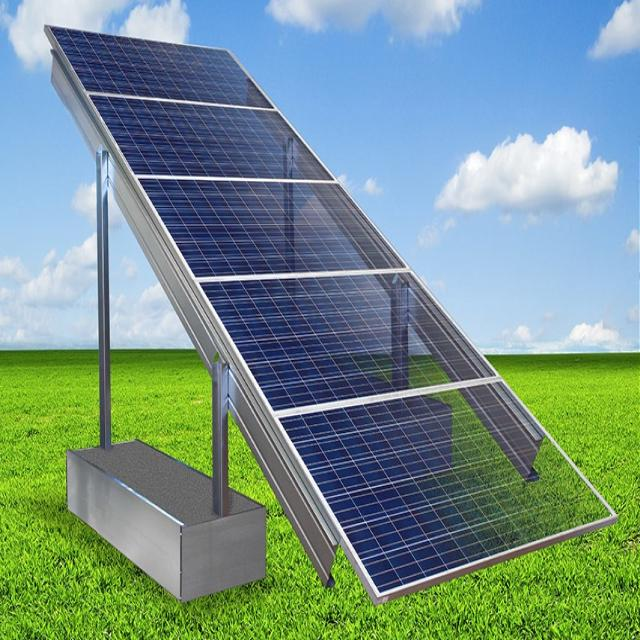clean-solar-panel: (46, 26, 615, 602)
